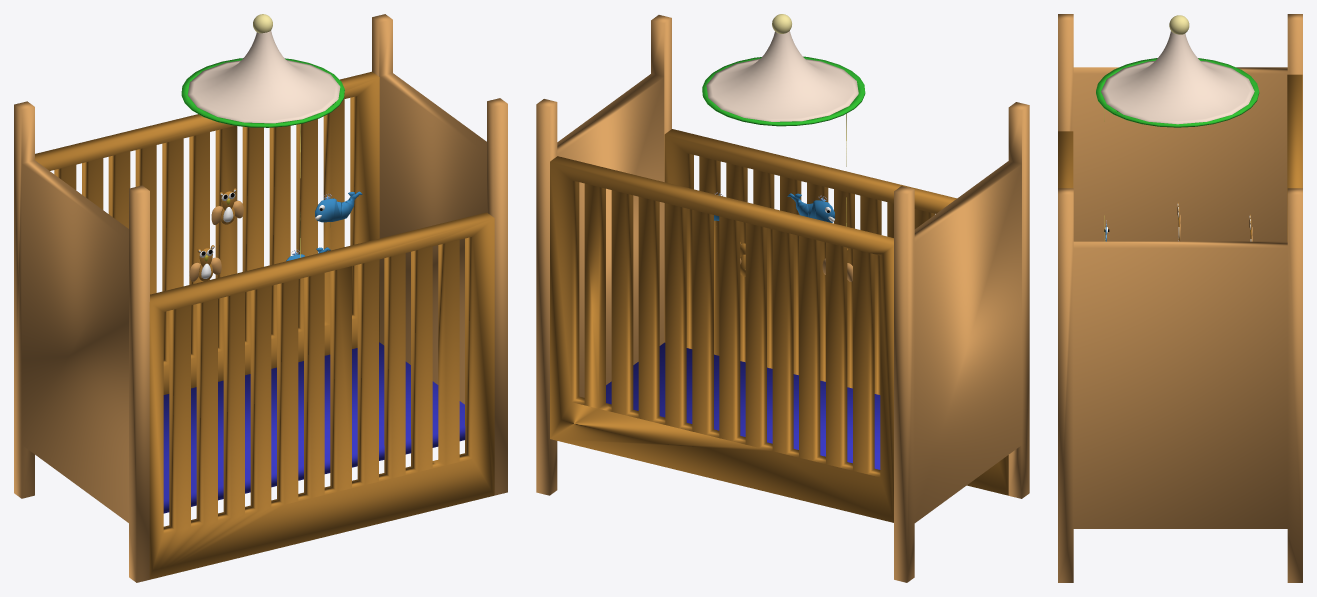
The picture shows the model from 3 angles, left to right: view 1: azimuth 30°, elevation 25°; view 2: azimuth 150°, elevation 25°; view 3: azimuth 270°, elevation 25°; orthographic projection.
Parts seen in each view (by area): view 1: Object_10, Object_14, Object_16, Object_5, Object_4, Object_6, Object_13; view 2: Object_10, Object_14, Object_16, Object_5, Object_4, Object_6; view 3: Object_14, Object_16, Object_10, Object_4, Object_2.
Boxes of the visible parts, x1,y1,x2,y2 form: Object_10: [35, 71, 494, 579]; Object_14: [14, 14, 507, 582]; Object_16: [188, 31, 340, 123]; Object_5: [163, 342, 465, 513]; Object_4: [181, 58, 344, 127]; Object_6: [286, 191, 362, 261]; Object_13: [189, 200, 243, 281]; Object_10: [550, 129, 1008, 522]; Object_14: [536, 15, 1029, 582]; Object_16: [706, 31, 858, 121]; Object_5: [606, 342, 880, 469]; Object_4: [702, 56, 865, 126]; Object_6: [714, 193, 835, 222]; Object_14: [1058, 14, 1302, 582]; Object_16: [1101, 31, 1254, 124]; Object_10: [1058, 74, 1302, 241]; Object_4: [1096, 58, 1259, 127]; Object_2: [1169, 15, 1189, 34].
Bounding box in the file's own units: 1399 × 1721 × 800.
